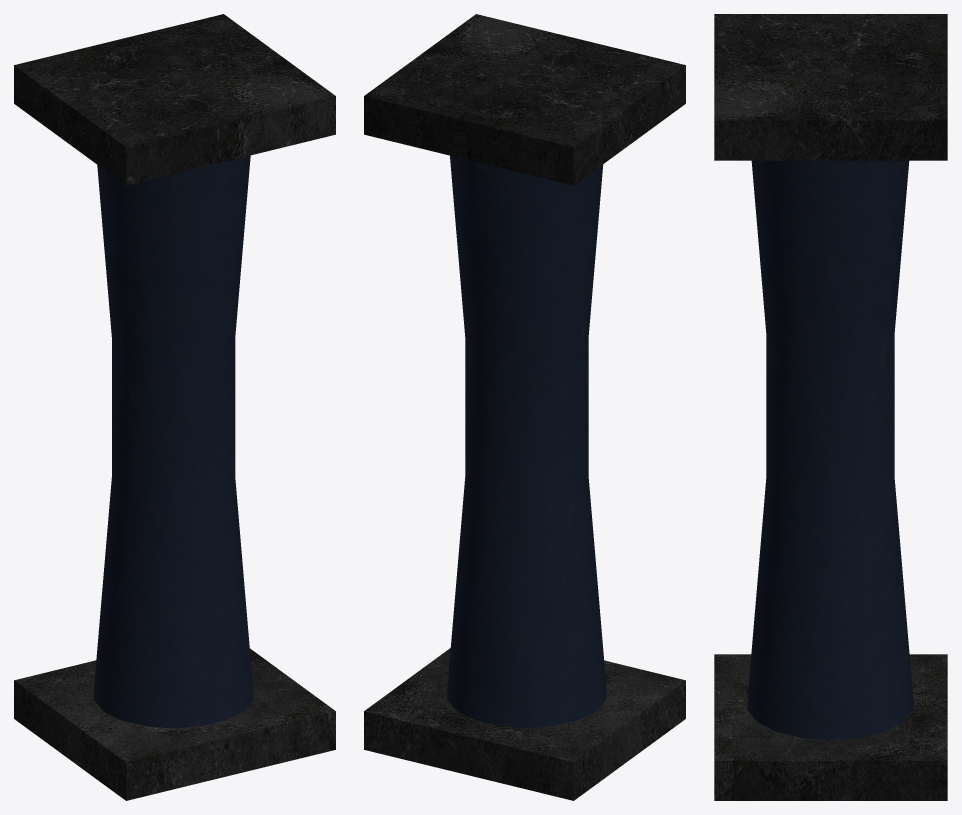
File: Column ver2.FBX
3 views of the same model, side by side, from view 1: azimuth 30°, elevation 25°; view 2: azimuth 150°, elevation 25°; view 3: azimuth 270°, elevation 25° (orthographic). The views are drawn at different scales.
Parts seen in each view (by area): view 1: Box015; view 2: Box015; view 3: Box015.
Boxes of the visible parts, <box> form: Box015: <box>14,14,335,800</box>; Box015: <box>364,14,685,800</box>; Box015: <box>714,14,947,800</box>.
Bounding box in the file's own units: 9401 × 27994 × 8706.
1 material, 1 textured.
